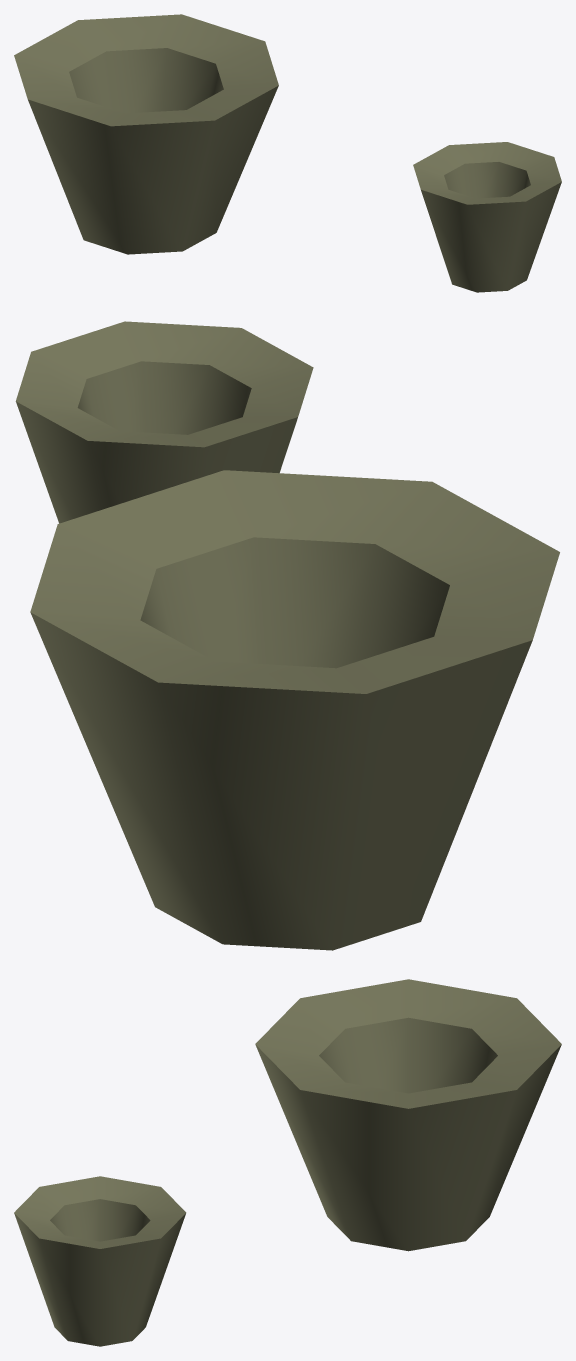
File: TubePlants.fbx
The picture shows the model from 3 angles, top to bottom: view 1: azimuth 30°, elevation 25°; view 2: azimuth 150°, elevation 25°; view 3: azimuth 270°, elevation 25°; orthographic projection. The views are drawn at different scales.
Visible parts, largest first — view 1: thing1, thing2; view 2: thing1, thing2; view 3: thing1, thing2.
Part boxes in pixels (x1,y1,x2,y2): thing1: (14, 14, 278, 254); thing2: (413, 142, 561, 292); thing1: (30, 470, 559, 950); thing2: (15, 321, 313, 523); thing1: (255, 979, 561, 1251); thing2: (14, 1176, 186, 1346).
Bounding box in the file's own units: 38.06 × 14.46 × 41.55.
